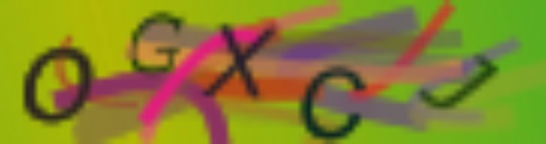C: (300, 63, 370, 142)
G: (121, 10, 185, 84)
J: (416, 50, 503, 110)
O: (20, 45, 95, 126)
X: (200, 20, 281, 101)
